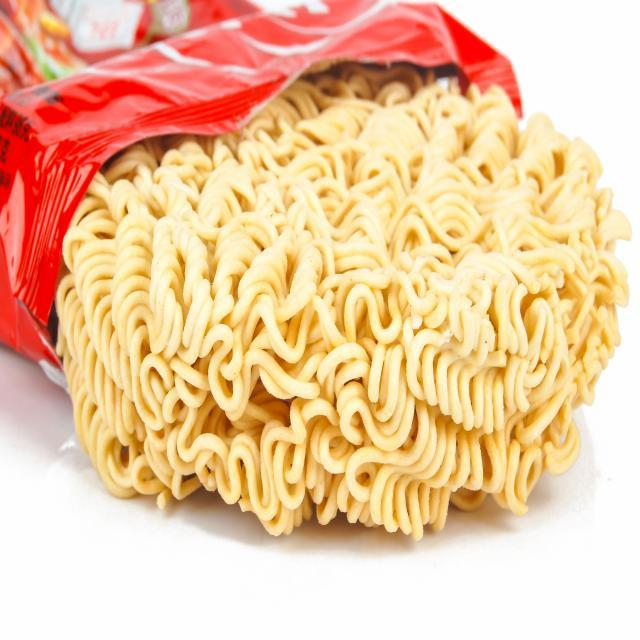Noodle: (70, 117, 602, 544)
